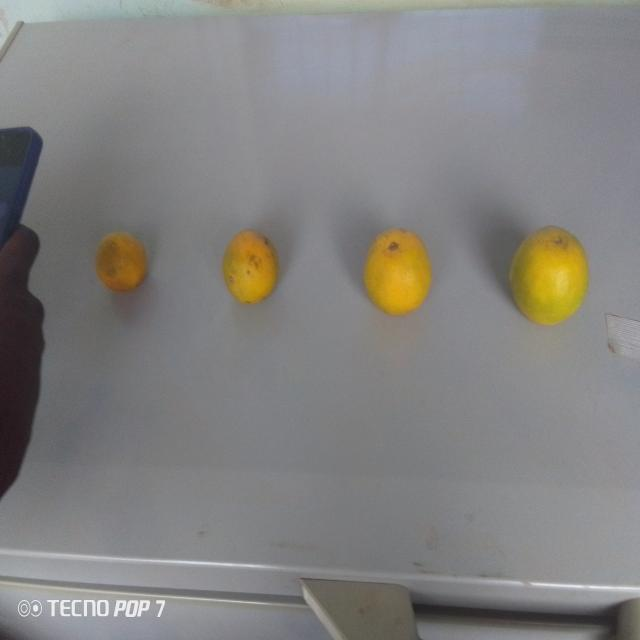Ripe orange: (501, 218, 594, 331), (356, 223, 435, 327), (220, 222, 284, 314), (93, 222, 150, 303)
